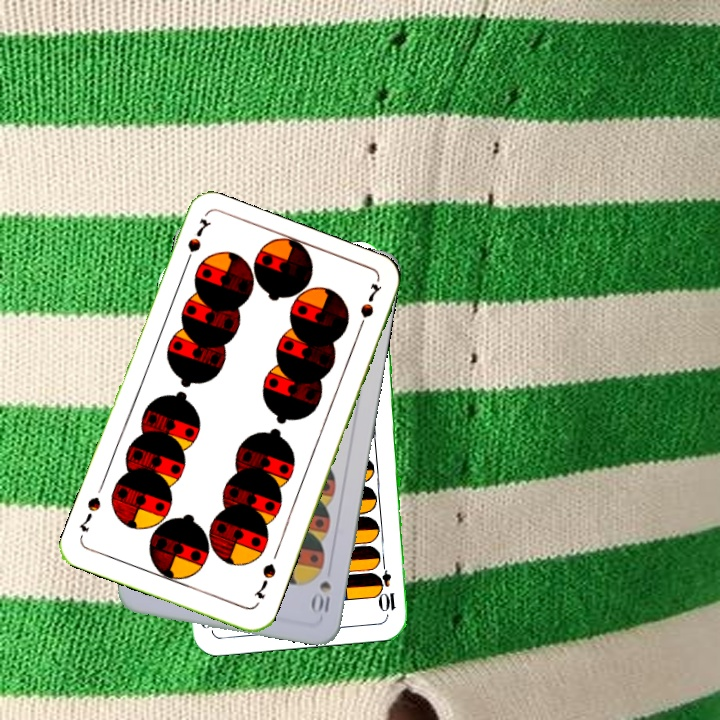E10: (376, 555, 398, 614)
S10: (309, 576, 334, 615)
S7: (180, 214, 213, 271), (250, 559, 279, 602)
